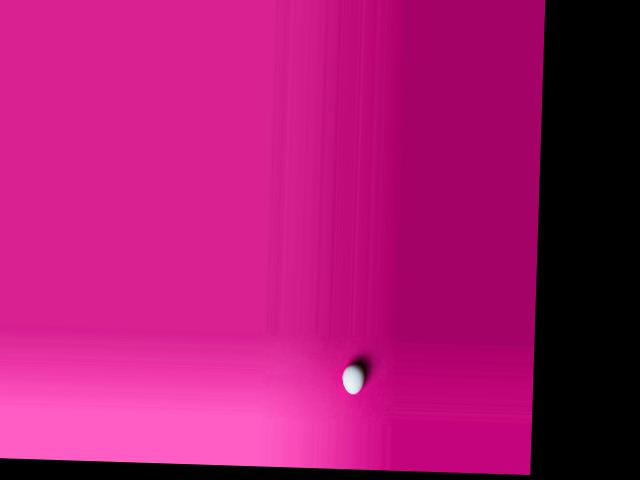egg: (341, 363, 364, 394)
